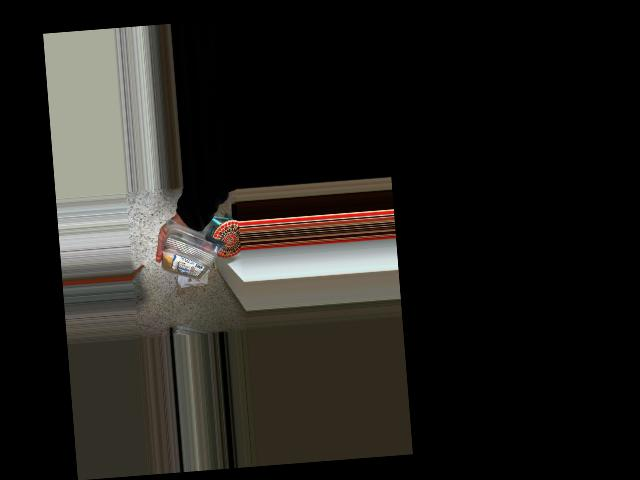cheese: (160, 214, 232, 293)
